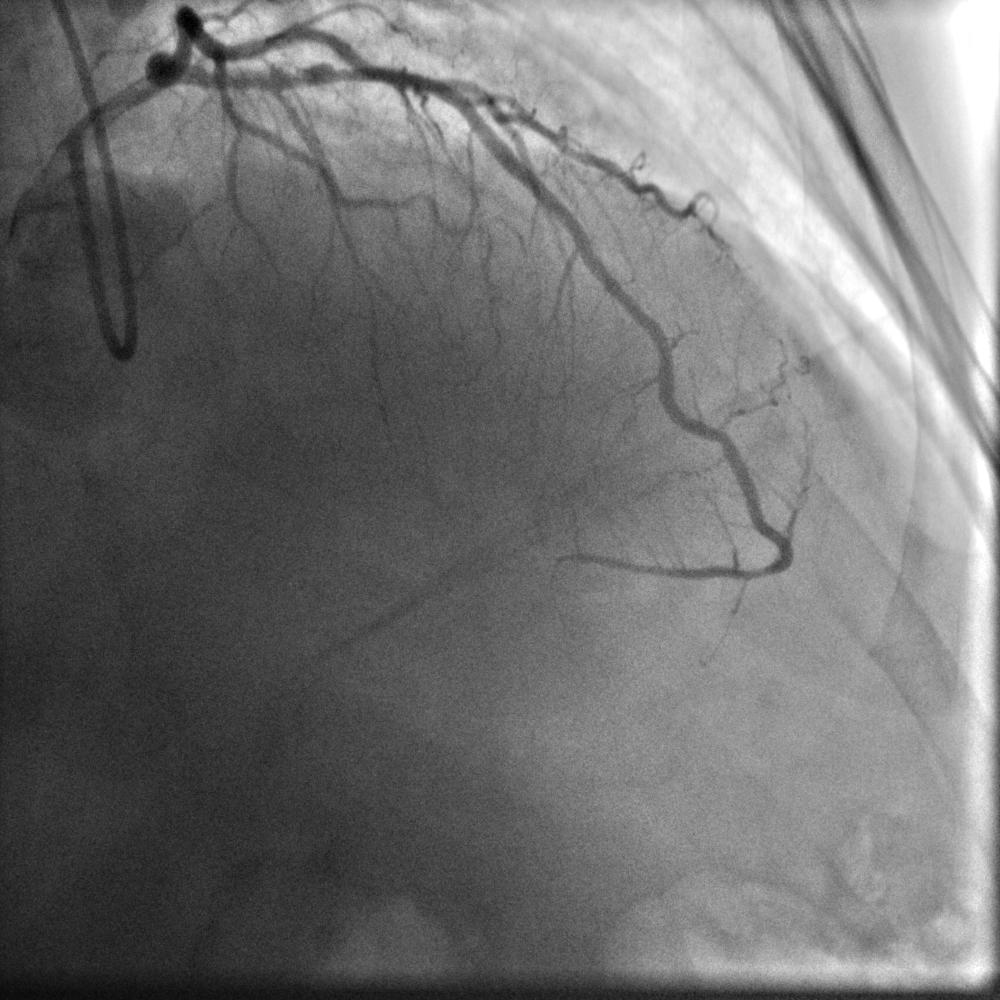Stenosis: (288, 65, 317, 87)
